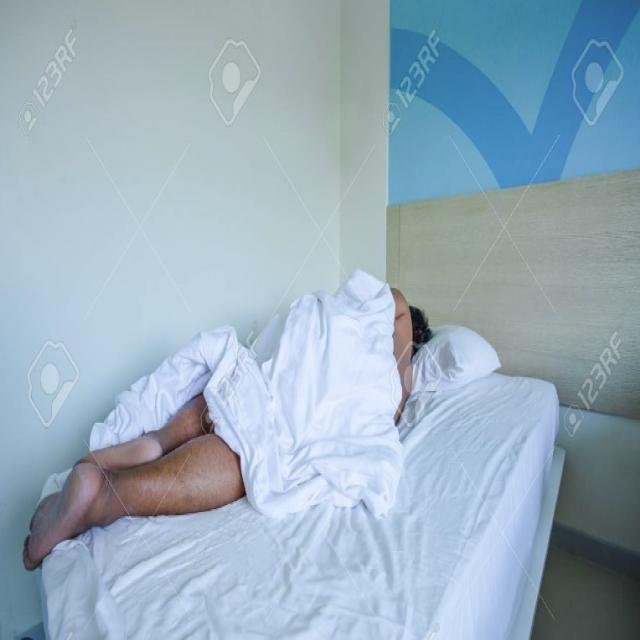sleeping-person: (18, 258, 441, 578)
